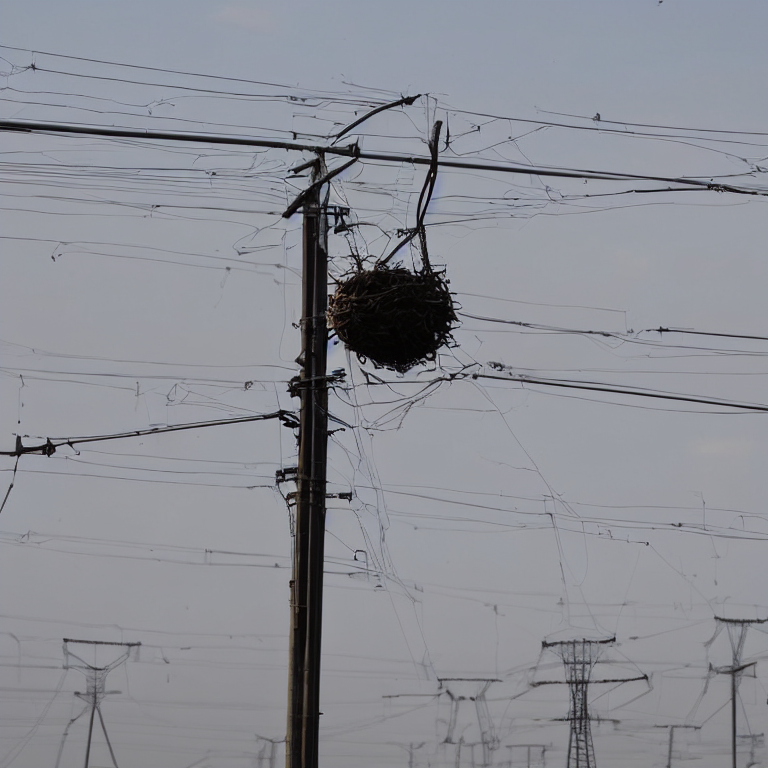nest: (330, 267, 453, 366)
